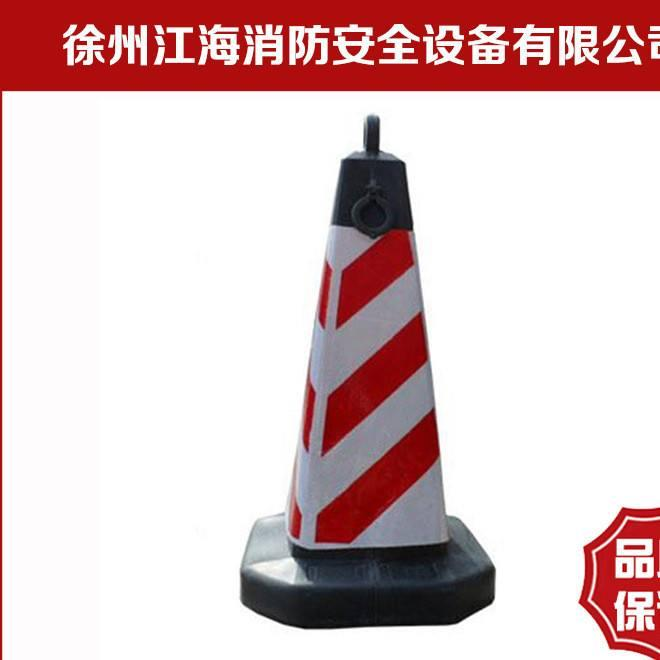sign: (234, 112, 516, 635)
